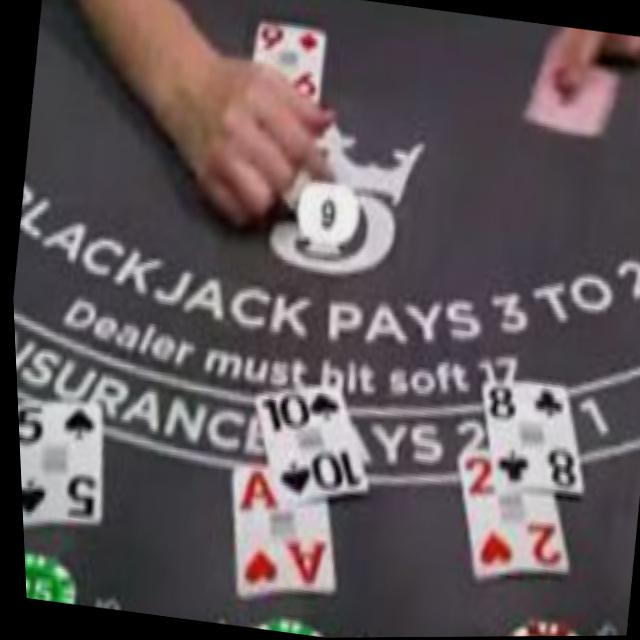Card-10: (249, 385, 365, 504)
Card-2: (455, 448, 563, 579)
Card-5: (14, 401, 98, 529)
Card-8: (480, 381, 578, 494)
Card-9: (252, 22, 326, 107)
Card-A: (229, 467, 330, 598)
